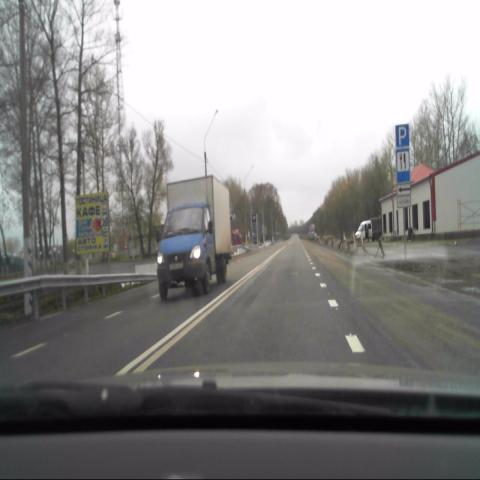6_4: (396, 124, 408, 149)
7_7: (396, 149, 409, 183)
